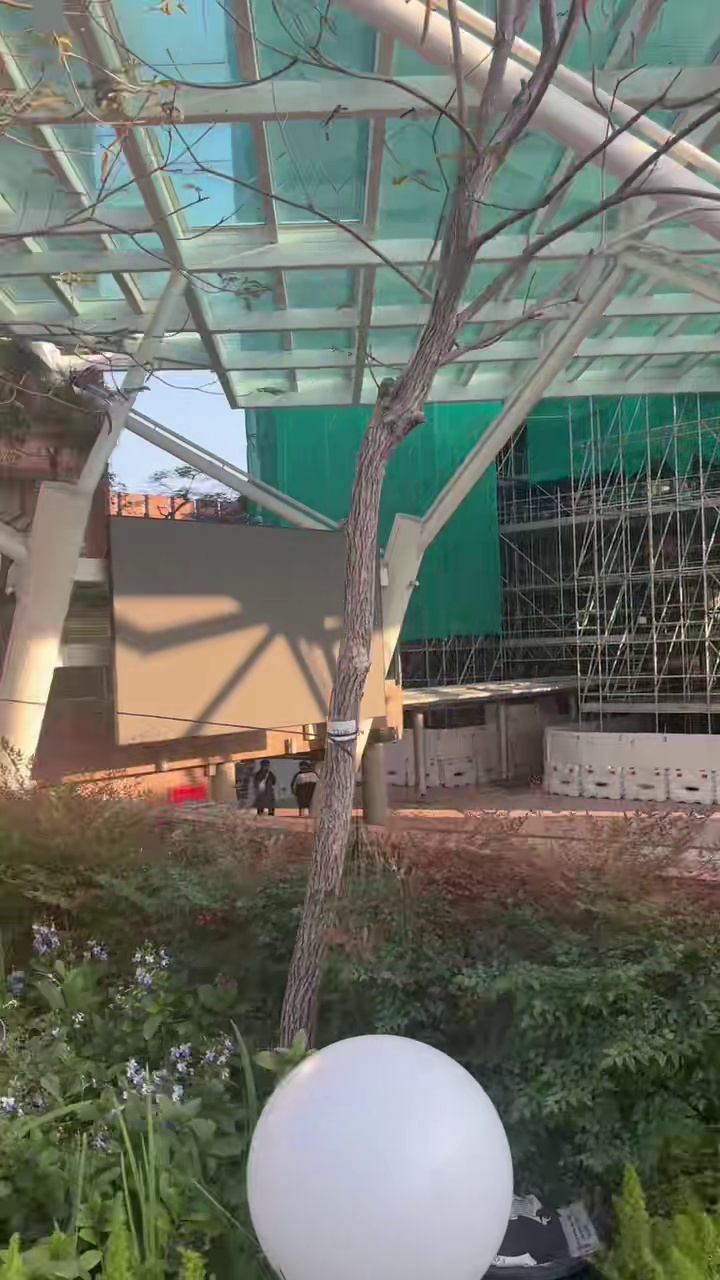Tabebuia chrysantha: (233, 0, 719, 725), (282, 720, 355, 1044)
